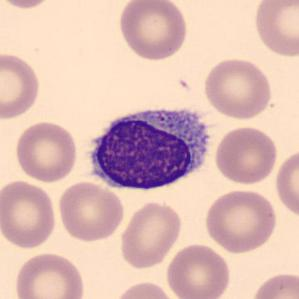Lymphocyte: (78, 104, 214, 192)
RBC: (203, 187, 279, 254), (201, 55, 274, 122), (117, 198, 184, 270), (116, 0, 190, 62), (56, 179, 126, 243), (12, 120, 80, 184), (0, 178, 59, 250), (212, 125, 279, 186), (164, 241, 232, 299), (12, 249, 87, 299), (0, 50, 43, 121), (250, 0, 298, 59), (273, 146, 298, 220), (248, 270, 298, 299), (112, 279, 180, 299), (0, 0, 58, 11)
